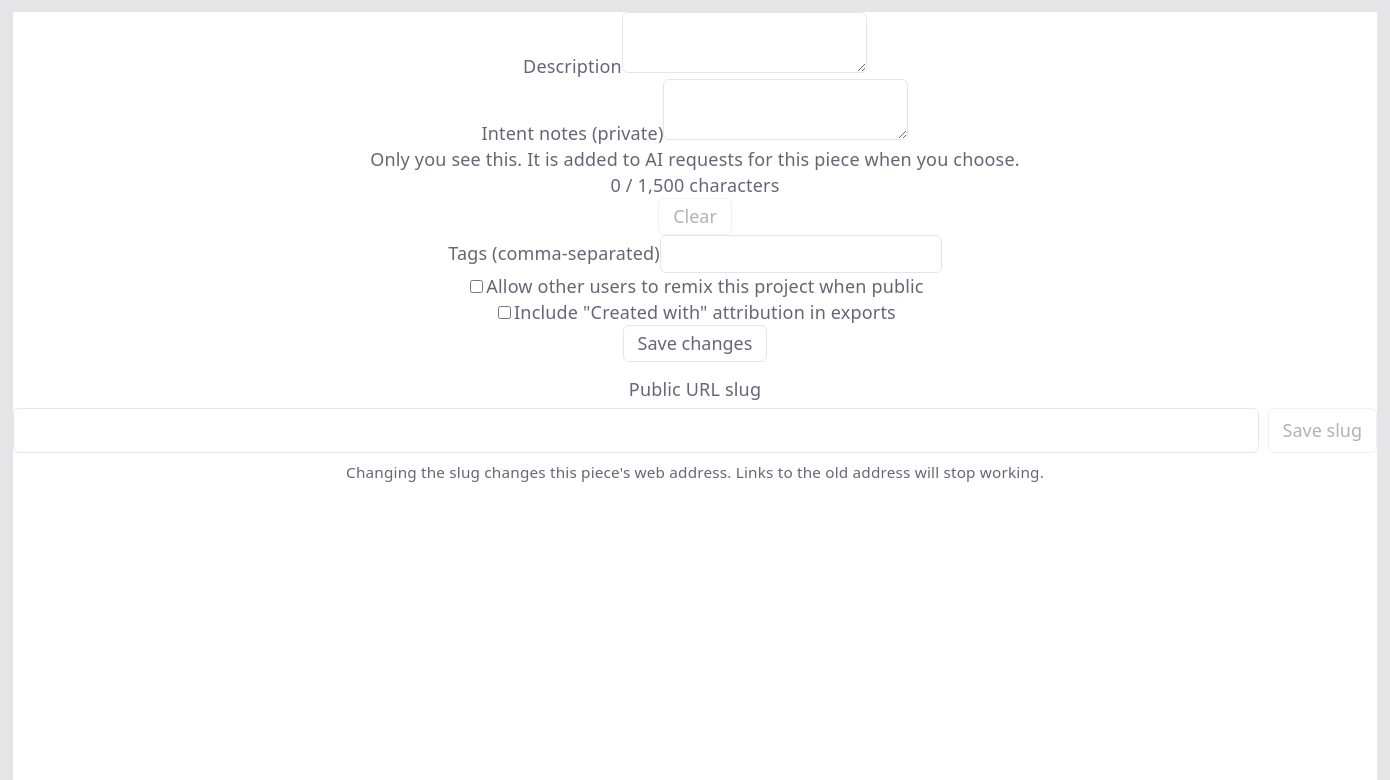
Test: EditorDetailsPanel › allows a private project to keep default/empty metadata
The image size is (1390, 780).
Click the button "Save changes" at (695, 344), box 623,325 -> 767,362
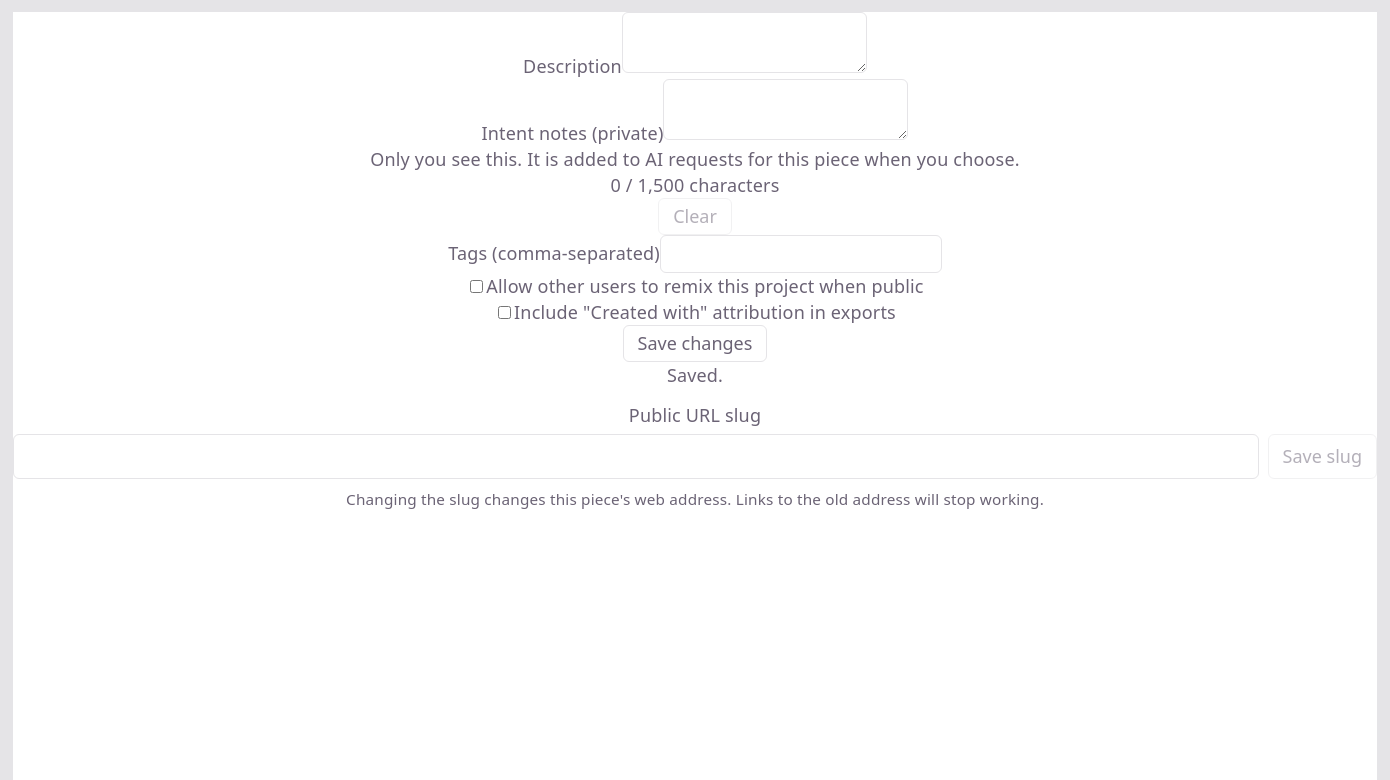
Check: the message shows "Saved", box 667,363 -> 723,387
